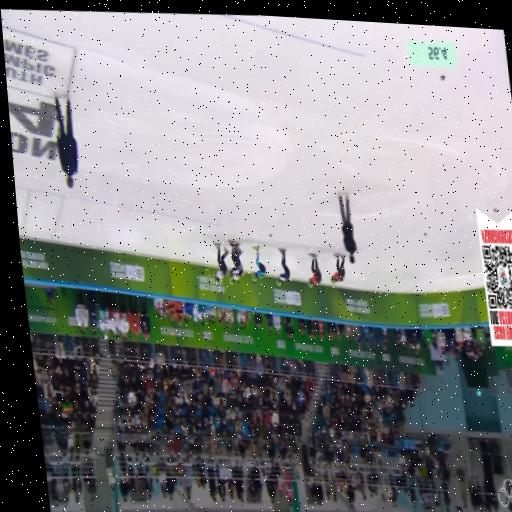Skater: (214, 243, 229, 283), (229, 242, 243, 283), (277, 248, 290, 285), (252, 246, 266, 280), (308, 253, 321, 286), (331, 254, 345, 283)
